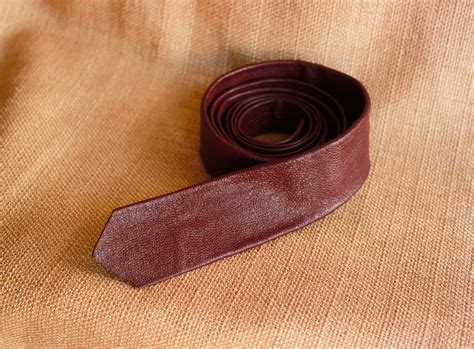cuero: (93, 59, 373, 293)
